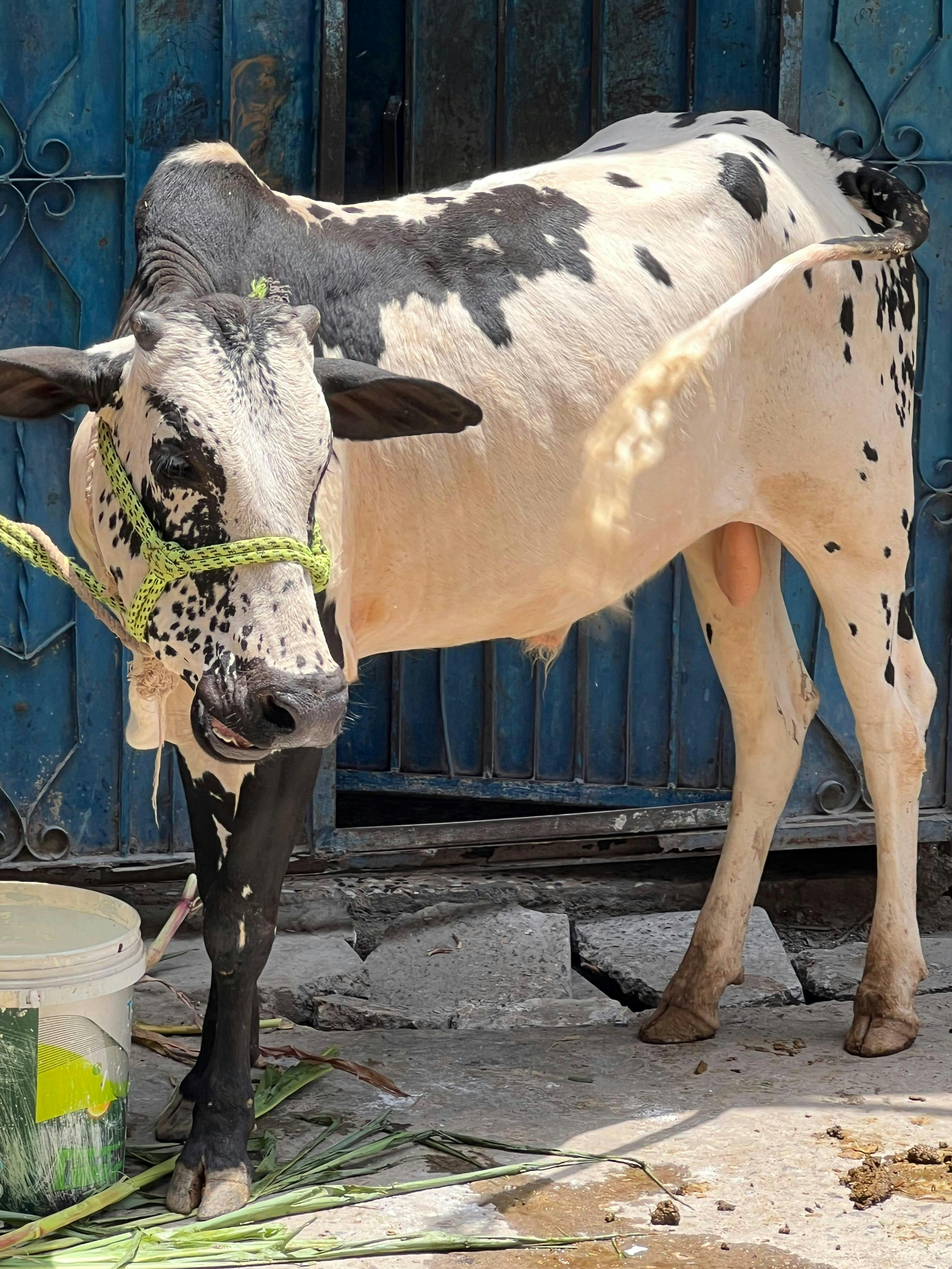bovino: (0, 100, 952, 1110)
